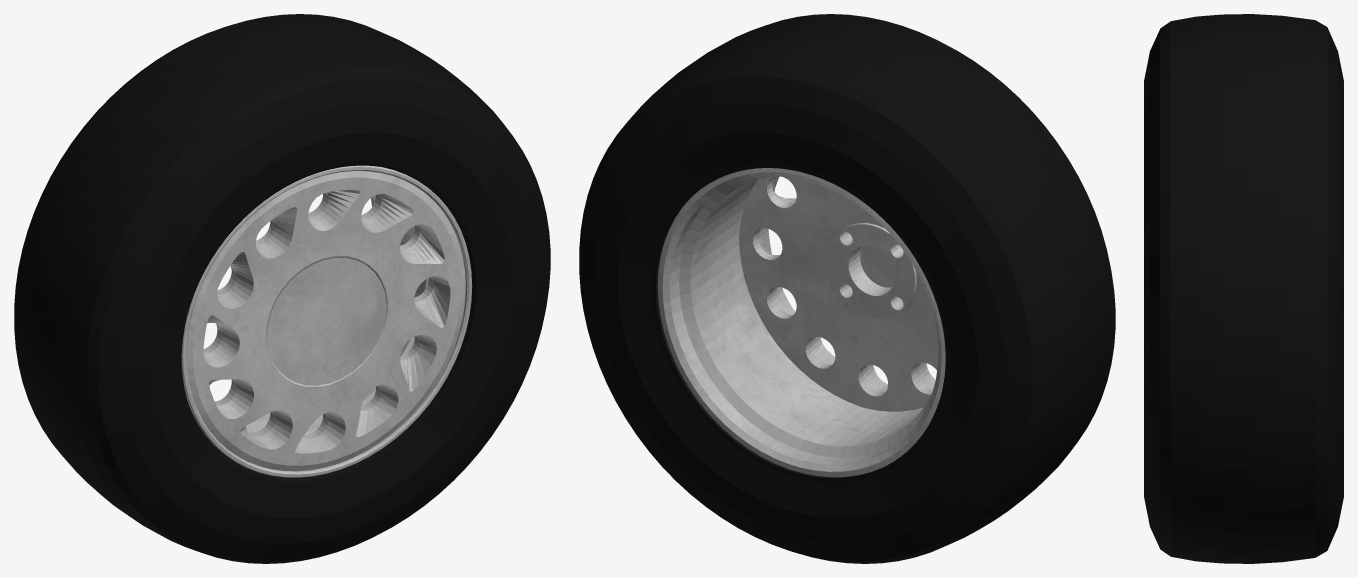
Rendered from nissan_oem.glb.
3 views of the same model, side by side, from view 1: azimuth 30°, elevation 25°; view 2: azimuth 150°, elevation 25°; view 3: azimuth 270°, elevation 25° (orthographic).
Parts seen in each view (by area): view 1: nissan_oem_0, nissan_oem_1; view 2: nissan_oem_0, nissan_oem_1; view 3: nissan_oem_0.
Boxes of the visible parts, x1,y1,x2,y2 form: nissan_oem_0: [14, 14, 550, 563]; nissan_oem_1: [181, 165, 472, 477]; nissan_oem_0: [579, 14, 1115, 563]; nissan_oem_1: [657, 168, 945, 477]; nissan_oem_0: [1144, 14, 1343, 563].
Size of the model in its own units: 1 by 0.9964 by 0.3623.
2 materials, 2 textured.
